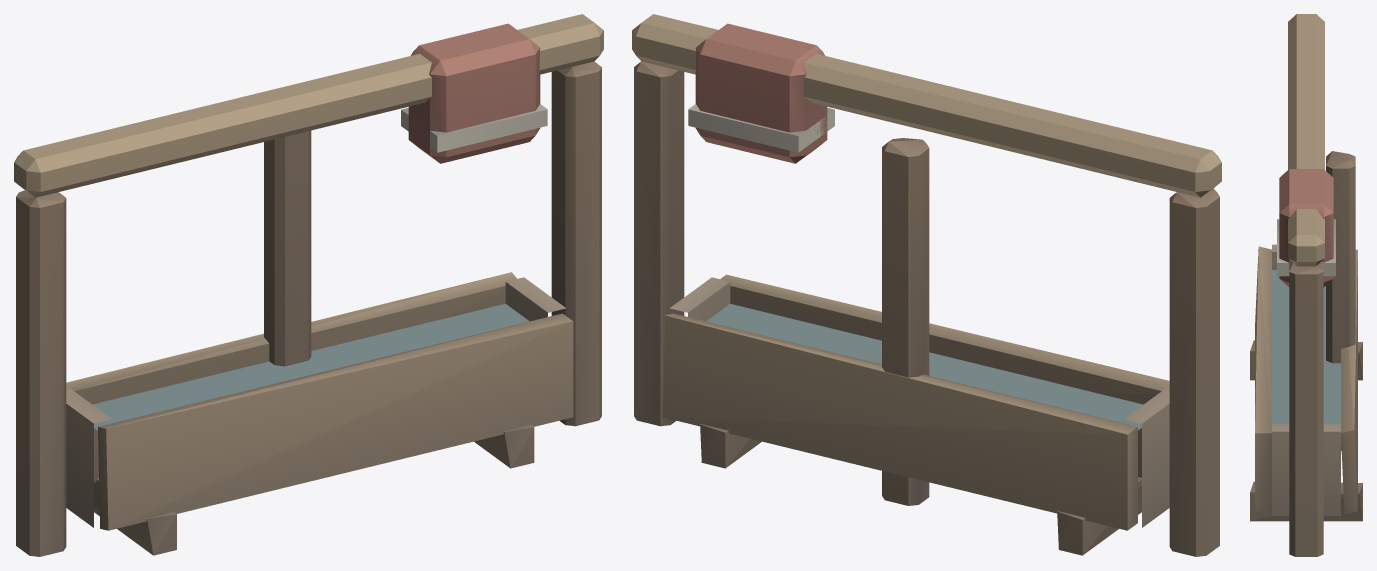
File: bench.lod1.glb
3 views of the same model, side by side, from view 1: azimuth 30°, elevation 25°; view 2: azimuth 150°, elevation 25°; view 3: azimuth 270°, elevation 25° (orthographic). The views are drawn at different scales.
Size of the model in its own units: 2.2 by 1.46 by 0.46.
